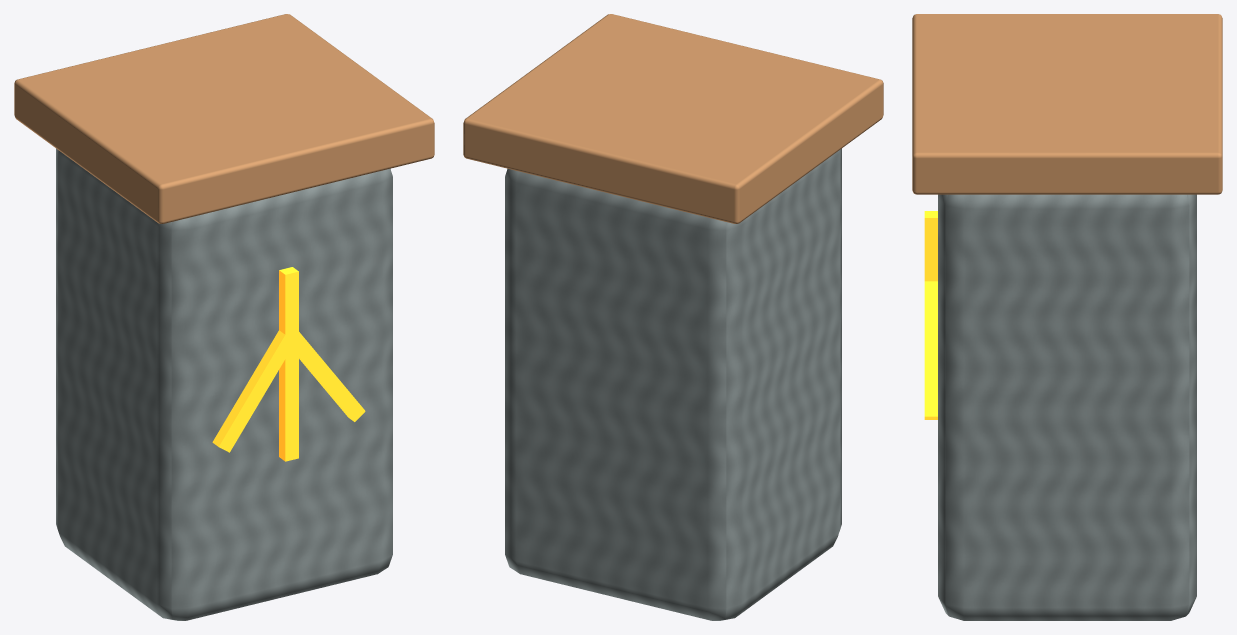
The model's file is dwarven-runeforge-dungeon-dwarven-runeforge-dungeon-pa-e3533d6c__28586.glb.
The picture shows the model from 3 angles, left to right: view 1: azimuth 30°, elevation 25°; view 2: azimuth 150°, elevation 25°; view 3: azimuth 270°, elevation 25°; orthographic projection. The views are drawn at different scales.
Visible parts, largest first — view 1: dwarven-runeforge-dungeon-parapet-end; view 2: dwarven-runeforge-dungeon-parapet-end; view 3: dwarven-runeforge-dungeon-parapet-end.
Part boxes in pixels (left/top/right/bottom): dwarven-runeforge-dungeon-parapet-end: left=14, top=14, right=434, bottom=620; dwarven-runeforge-dungeon-parapet-end: left=463, top=14, right=883, bottom=620; dwarven-runeforge-dungeon-parapet-end: left=912, top=14, right=1222, bottom=620.
Bounding box in the file's own units: 0.65 × 1.04 × 0.6.
Materials: 3 (1 with a texture image).
